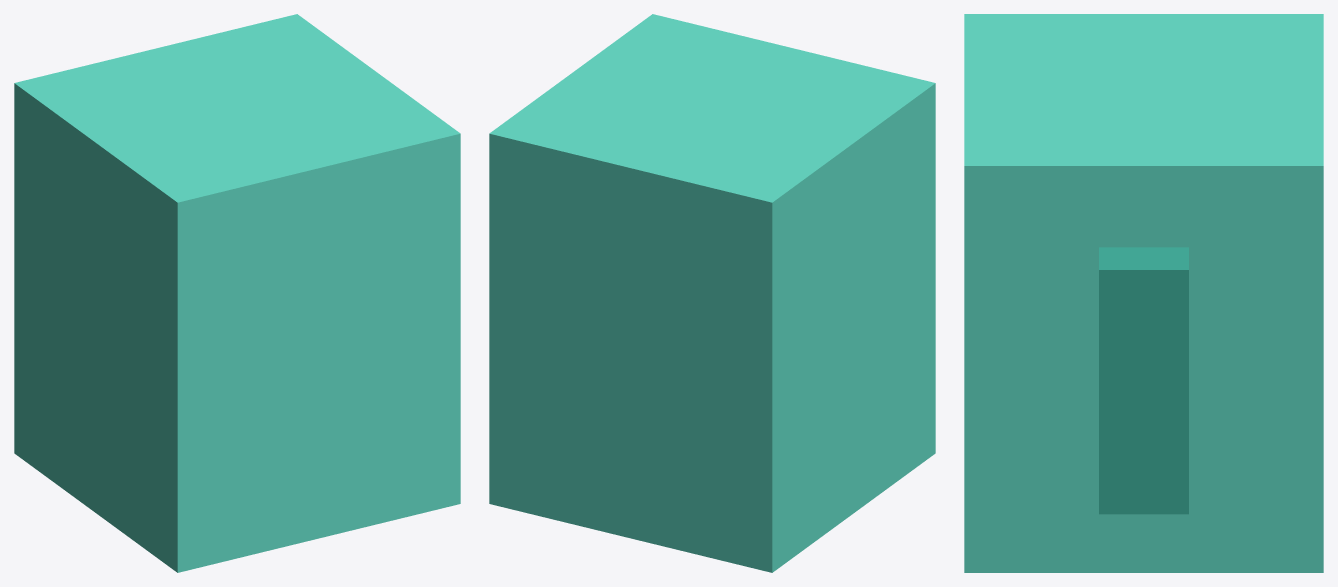
Rendered from mug.glb.
3 renders of one model, left to right at view 1: azimuth 30°, elevation 25°; view 2: azimuth 150°, elevation 25°; view 3: azimuth 270°, elevation 25°, orthographic. The views are drawn at different scales.
Parts seen in each view (by area): view 1: mug_body; view 2: mug_body; view 3: mug_body, mug_handle.
Part boxes in pixels (x1,y1,x2,y2): mug_body: (14, 14, 460, 572); mug_body: (489, 14, 935, 572); mug_body: (964, 14, 1323, 572); mug_handle: (1099, 247, 1188, 514).
Size of the model in its own units: 0.092 by 0.1 by 0.08.
